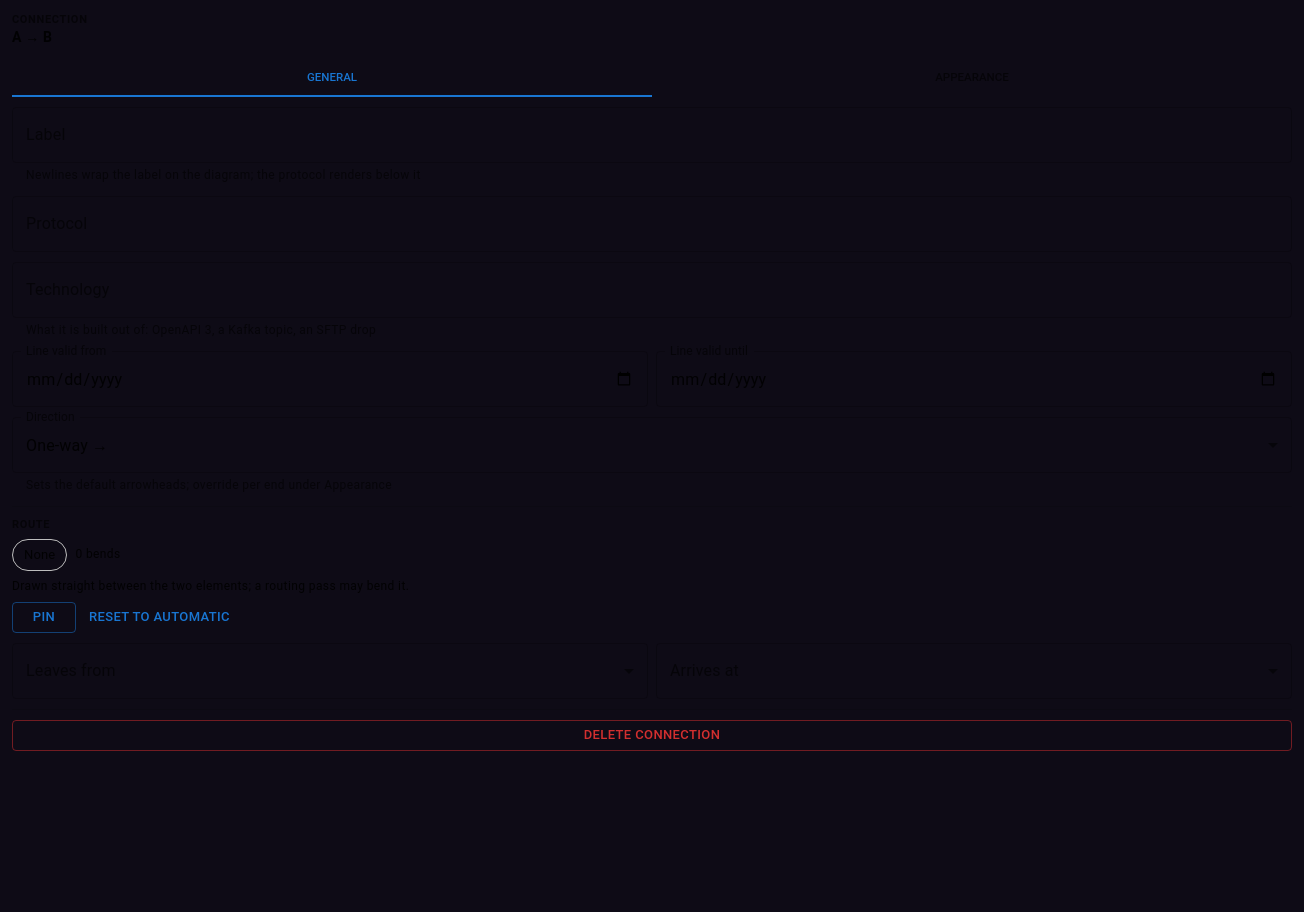
Scenario: ConnectionInspector — tab structure (U7a) › Appearance reaches Colour, Line style, Routing and the arrowhead override
Click the tab "Appearance" at (972,77), box [652, 57, 1292, 97]
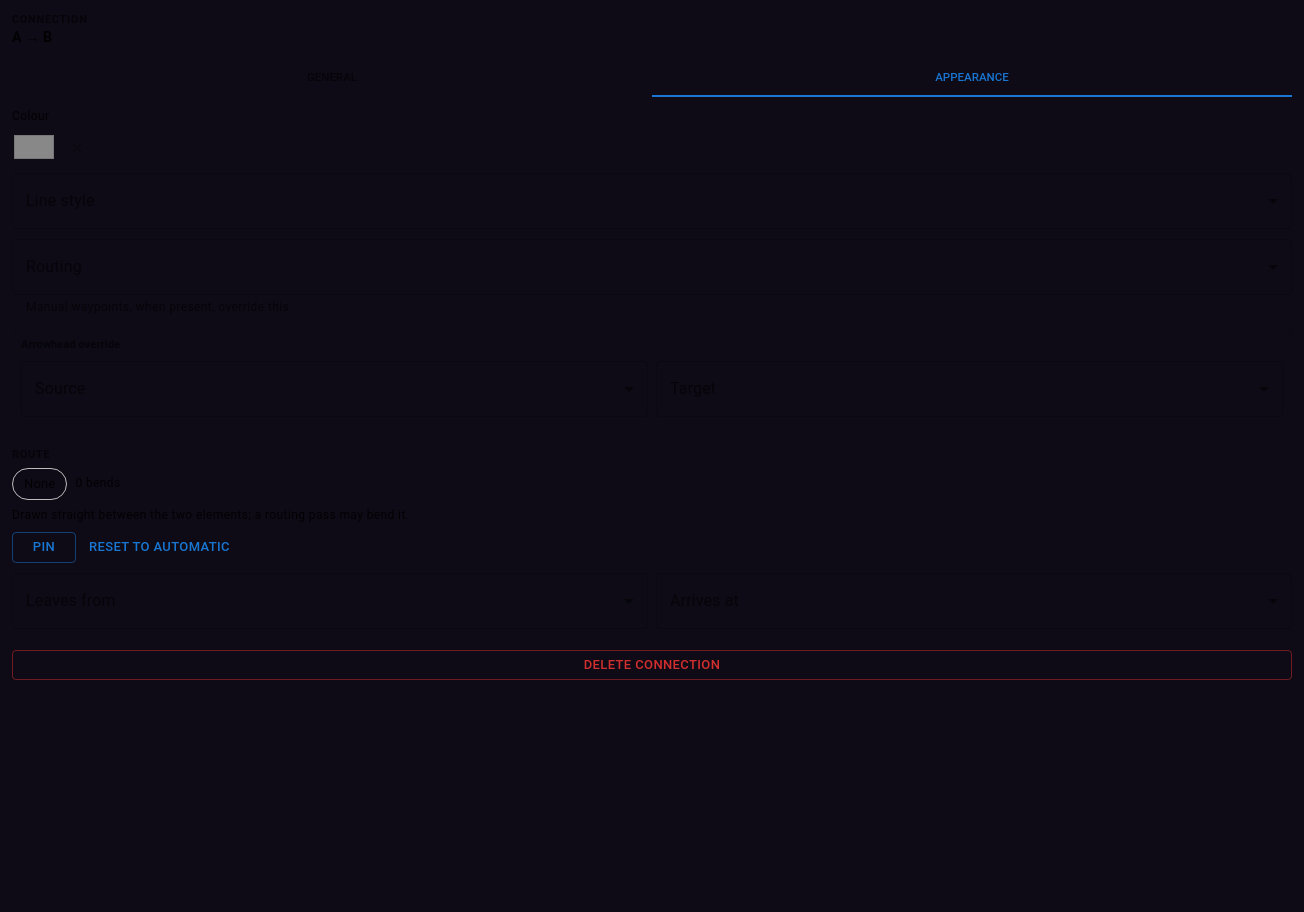
Check: the colour field named "Edge colour" is shown, box [12, 131, 56, 163]
